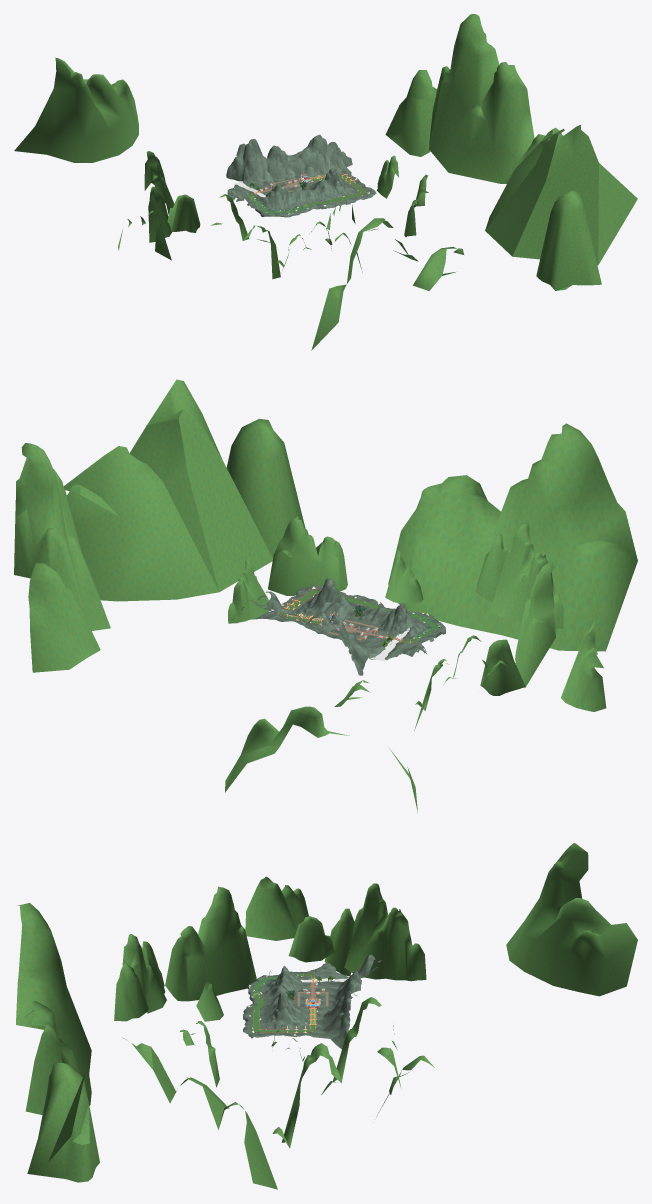
Rendered from track.glb.
3 views of the same model, one above another, from view 1: azimuth 30°, elevation 25°; view 2: azimuth 150°, elevation 25°; view 3: azimuth 270°, elevation 25° (orthographic). The views are drawn at different scales.
Parts seen in each view (by area): view 1: E_ChinaTown_New_Grass_02@2,1, E_ChinaTown_New_Grass_01|lm1@0,1, E_ChinaTown_New_Grass_04|lm1@0,1, E_ChinaTown_New_Road_01|lm0@0,-1; view 2: E_ChinaTown_New_Grass_02@2,1, E_ChinaTown_New_Grass_01|lm1@0,1, E_ChinaTown_New_Grass_04|lm1@0,1, E_ChinaTown_New_Road_01|lm0@0,-1; view 3: E_ChinaTown_New_Grass_02@2,1, E_ChinaTown_New_Grass_01|lm1@0,1, E_ChinaTown_New_Grass_04|lm1@0,1, E_ChinaTown_New_Road_01|lm0@0,-1.
Part boxes in pixels (x1,y1,x2,y2): E_ChinaTown_New_Grass_02@2,1: (14,14,637,350); E_ChinaTown_New_Grass_01|lm1@0,1: (227,134,376,217); E_ChinaTown_New_Grass_04|lm1@0,1: (226,139,312,197); E_ChinaTown_New_Road_01|lm0@0,-1: (248,175,367,213); E_ChinaTown_New_Grass_02@2,1: (14,379,637,812); E_ChinaTown_New_Grass_01|lm1@0,1: (232,578,445,660); E_ChinaTown_New_Grass_04|lm1@0,1: (305,612,405,675); E_ChinaTown_New_Road_01|lm0@0,-1: (279,590,438,643); E_ChinaTown_New_Grass_02@2,1: (16,843,637,1189); E_ChinaTown_New_Grass_01|lm1@0,1: (243,963,357,1049); E_ChinaTown_New_Grass_04|lm1@0,1: (288,954,381,1009); E_ChinaTown_New_Road_01|lm0@0,-1: (253,974,316,1032).
Size of what is drawn, in the model's own units: 5275 by 1971 by 5503.
32 materials, 31 textured.
